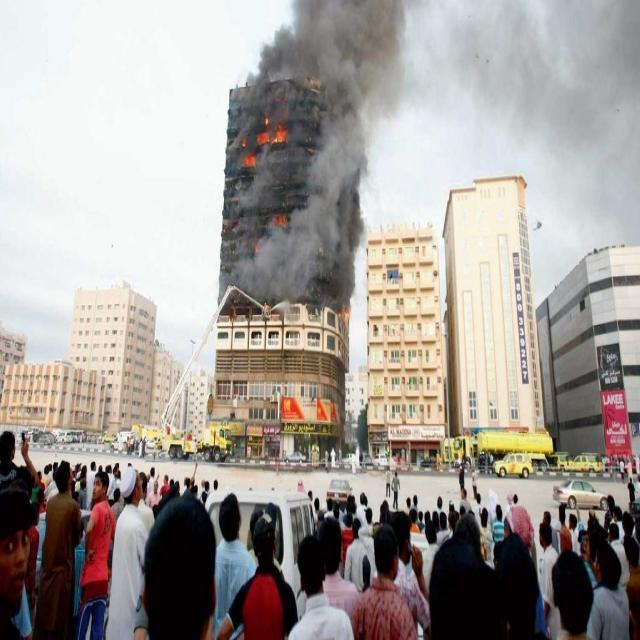Fire: (237, 118, 287, 173), (275, 208, 287, 223)
Smoke: (233, 0, 415, 99), (308, 107, 369, 313), (214, 231, 310, 314), (234, 178, 272, 226)
